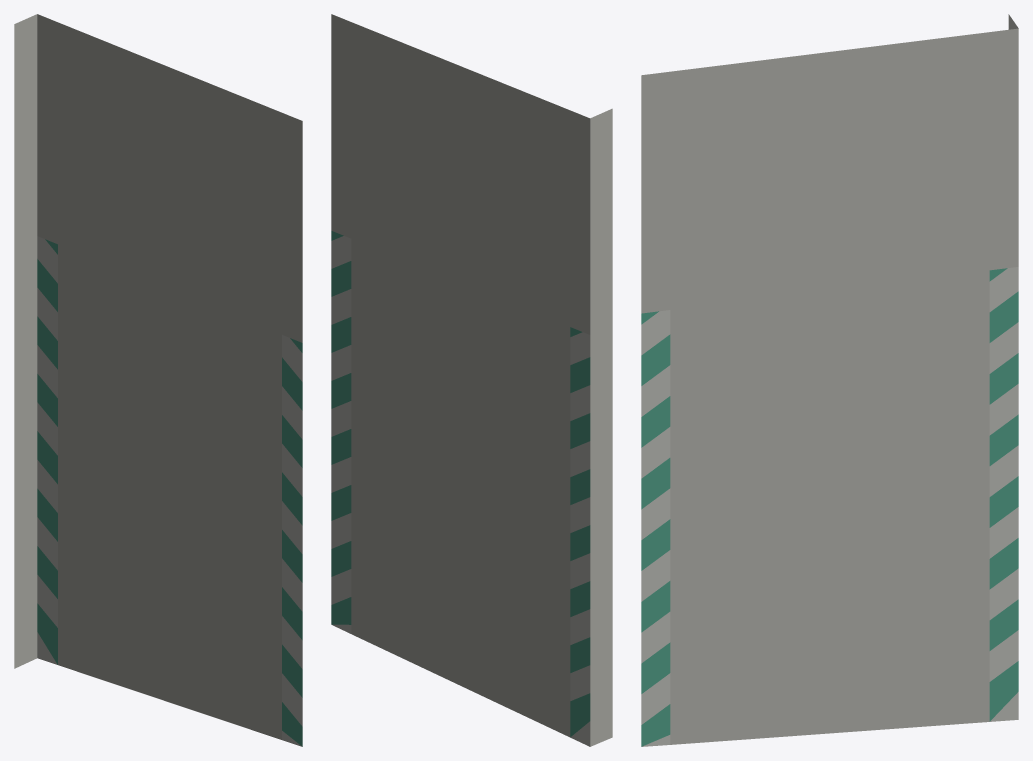
Rendered from wall-jr-centre-pier-2025-04-09.glb.
The picture shows the model from 3 angles, left to right: view 1: azimuth 30°, elevation 25°; view 2: azimuth 210°, elevation 25°; view 3: azimuth 270°, elevation 25°; orthographic projection. The views are drawn at different scales.
Parts seen in each view (by area): view 1: visible_centre_pier_cladding_ONLY; view 2: visible_centre_pier_cladding_ONLY; view 3: visible_centre_pier_cladding_ONLY.
Part boxes in pixels (box(x1,y1,x2,y2)): visible_centre_pier_cladding_ONLY: box(14, 14, 302, 746); visible_centre_pier_cladding_ONLY: box(331, 14, 612, 746); visible_centre_pier_cladding_ONLY: box(641, 14, 1018, 746).
Bounding box in the file's own units: 0.8106 × 4.27 × 2.11.
